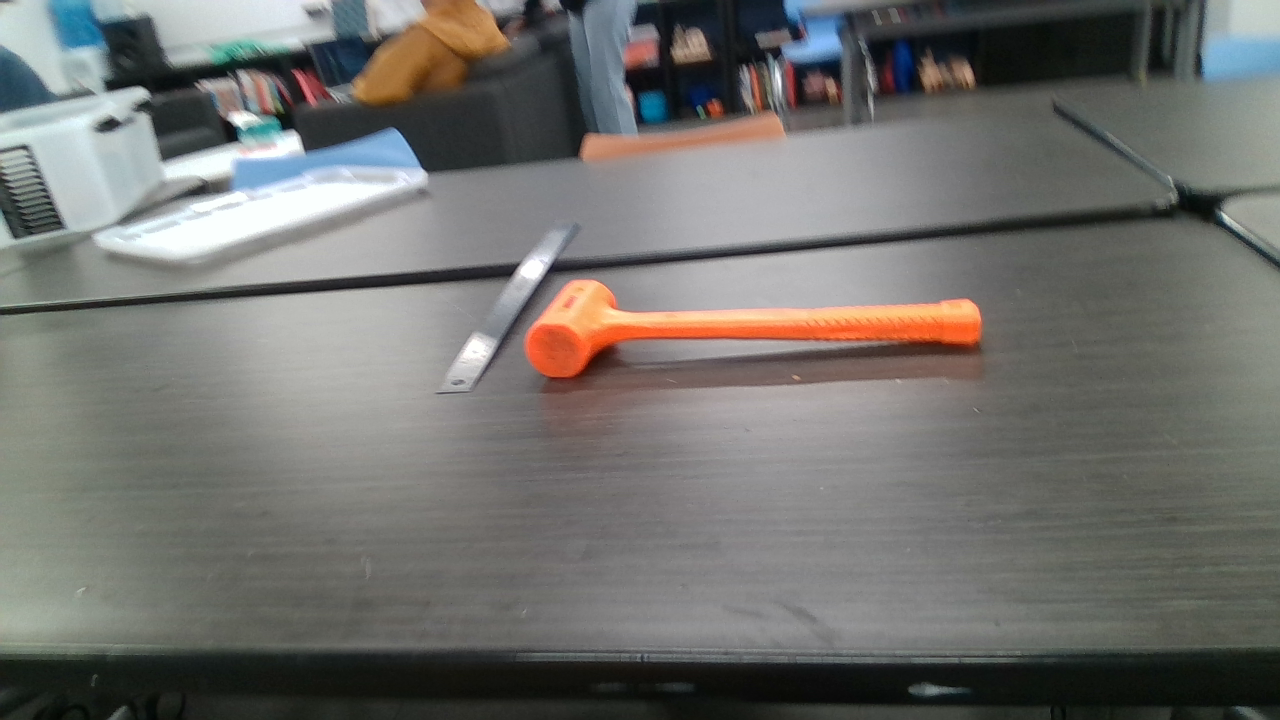Orange Hammer: (529, 278, 984, 378)
